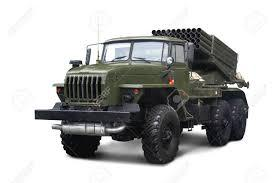MIL_SAM_TEL: (37, 26, 254, 164)
